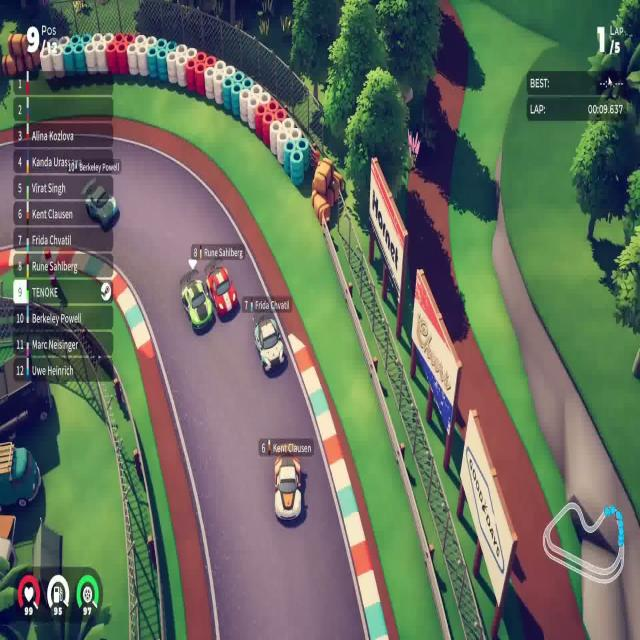car: (273, 453, 303, 522), (180, 275, 214, 334), (80, 179, 119, 230), (253, 315, 285, 373), (206, 264, 238, 319)
